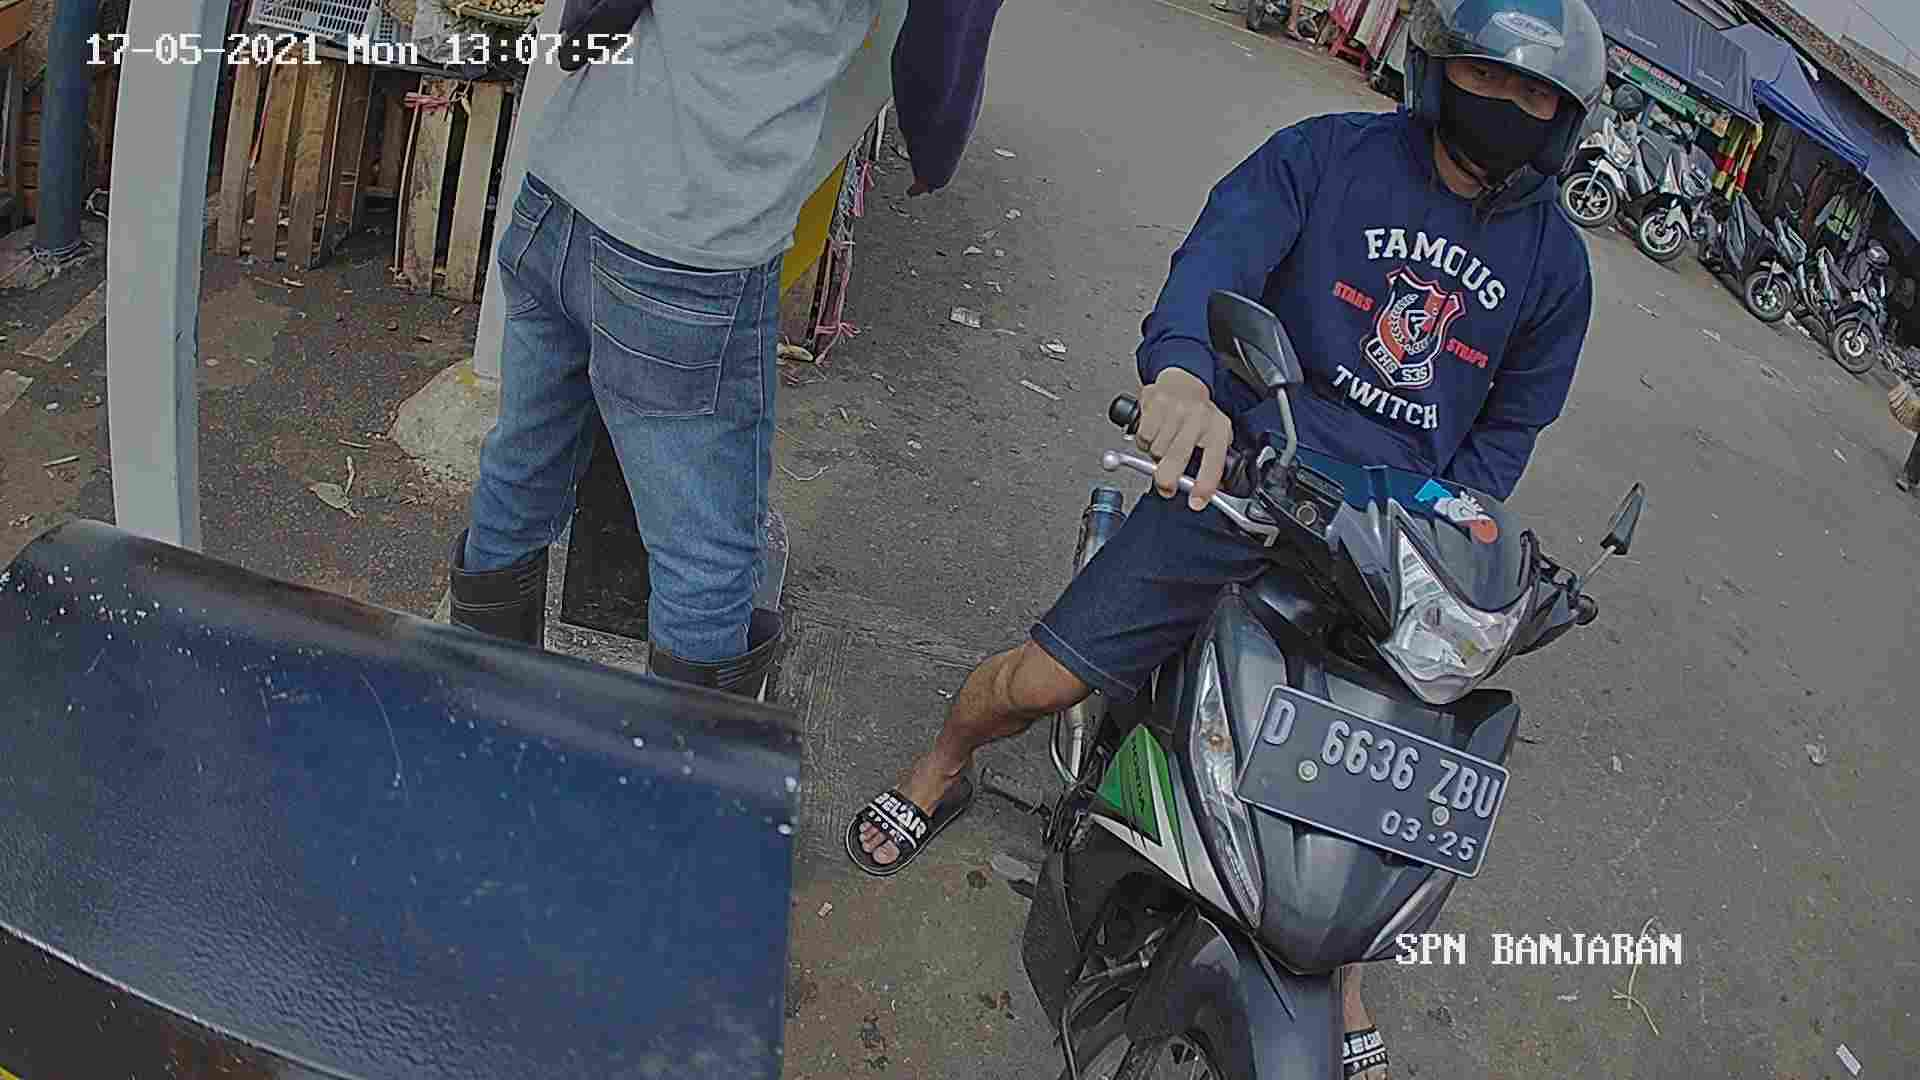motor: (1029, 397, 1607, 1080)
